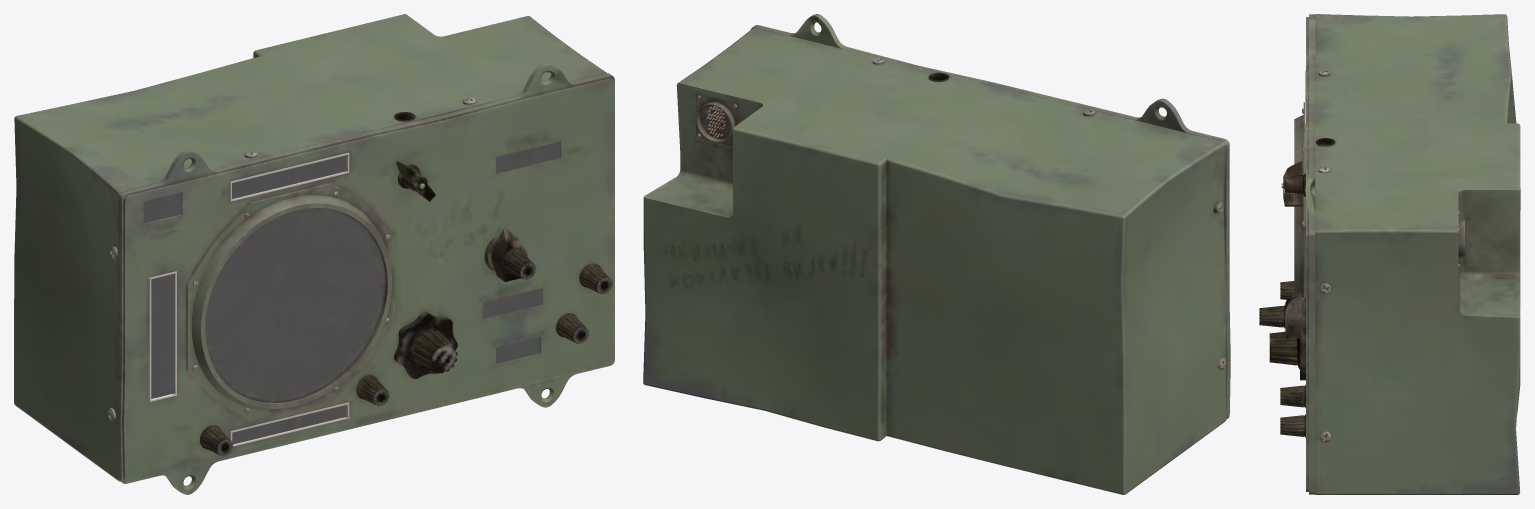
The model's file is vintage_spacecraft_instrument.glb.
The picture shows the model from 3 angles, left to right: view 1: azimuth 30°, elevation 25°; view 2: azimuth 150°, elevation 25°; view 3: azimuth 270°, elevation 25°; orthographic projection. The views are drawn at different scales.
Visible parts, largest first — view 1: vintage_spacecraft_instrument; view 2: vintage_spacecraft_instrument; view 3: vintage_spacecraft_instrument.
Boxes of the visible parts, x1,y1,x2,y2 form: vintage_spacecraft_instrument: (14,14,614,494); vintage_spacecraft_instrument: (643,14,1230,494); vintage_spacecraft_instrument: (1259,14,1520,494).
Bounding box in the file's own units: 0.4103 × 0.2693 × 0.2044.
Materials: 2 (2 with a texture image).
